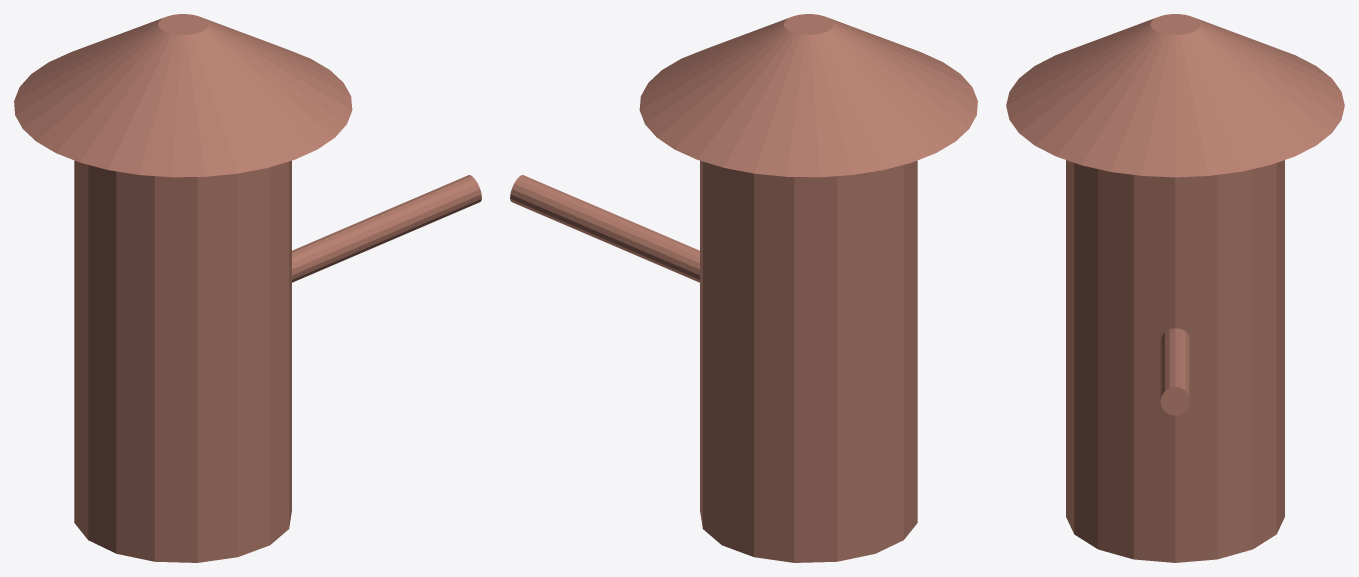
File: E_PilgrimZealot.fbx
3 renders of one model, left to right at view 1: azimuth 30°, elevation 25°; view 2: azimuth 150°, elevation 25°; view 3: azimuth 270°, elevation 25°, orthographic.
Visible parts, largest first — view 1: E_PilgrimZealot; view 2: E_PilgrimZealot; view 3: E_PilgrimZealot.
Boxes of the visible parts, left/top/right/bottom form: E_PilgrimZealot: left=14, top=14, right=481, bottom=562; E_PilgrimZealot: left=510, top=14, right=977, bottom=562; E_PilgrimZealot: left=1006, top=14, right=1344, bottom=562.
Bounding box in the file's own units: 1.02 × 1.09 × 0.68.
